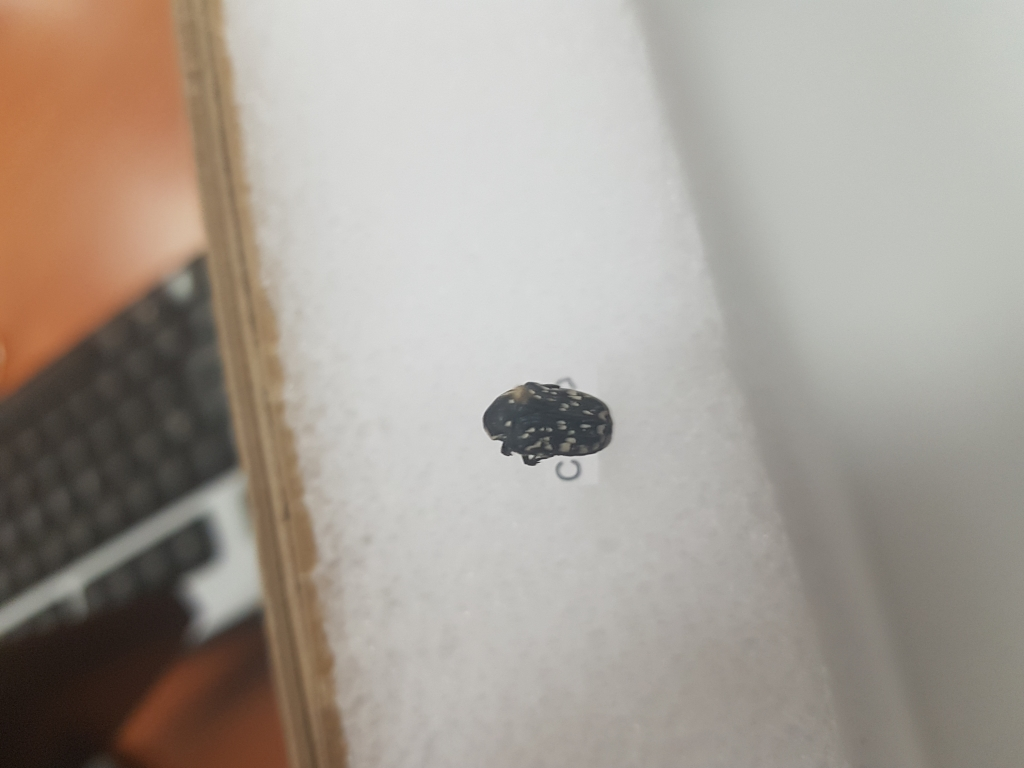Oxythyrea_albopicta: (478, 371, 619, 472)
